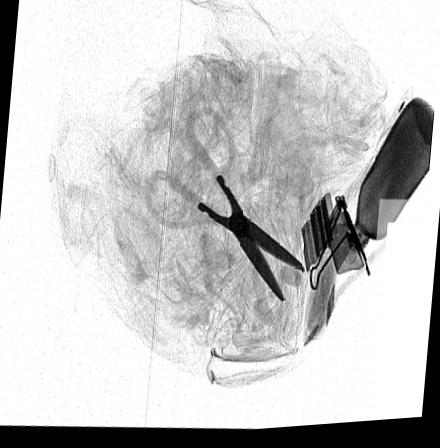Scissors: (141, 104, 313, 308)
